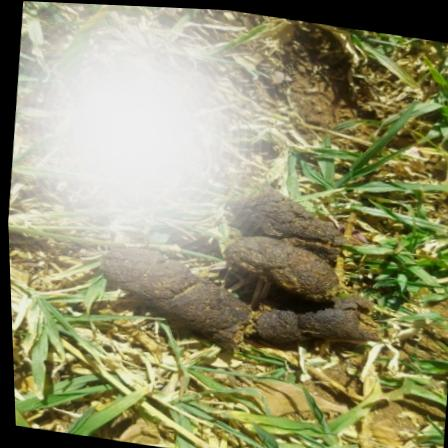dog-poop: (86, 157, 390, 366)
